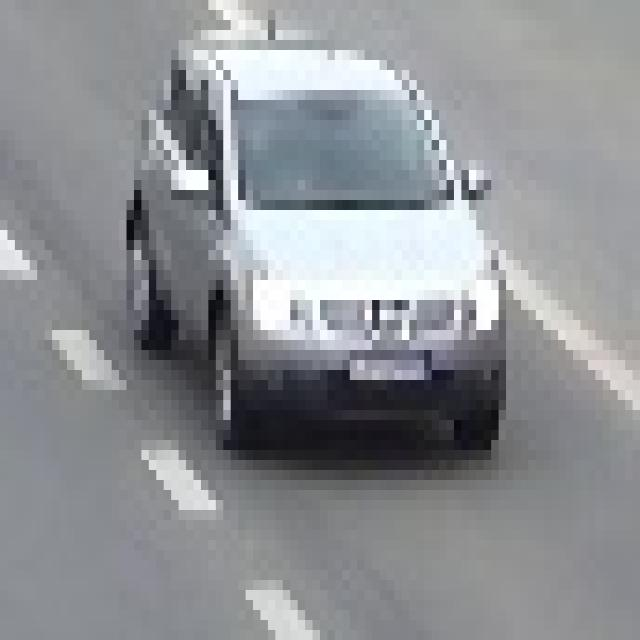SUV: (148, 44, 485, 449)
